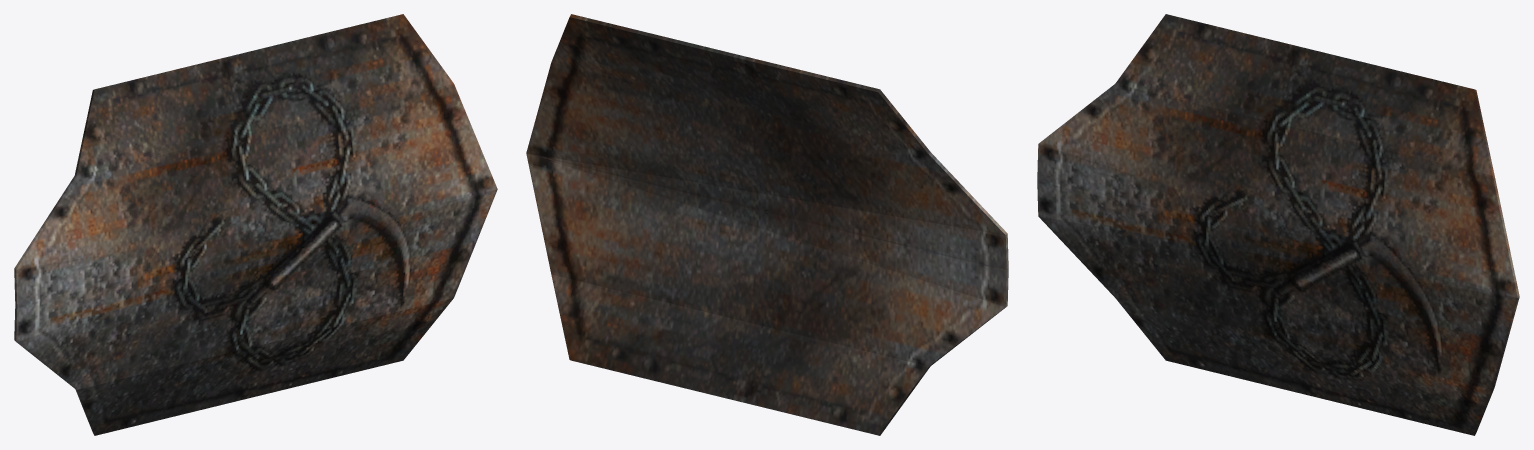
3 renders of one model, left to right at view 1: azimuth 30°, elevation 25°; view 2: azimuth 150°, elevation 25°; view 3: azimuth 330°, elevation 25°, orthographic.
Parts seen in each view (by area): view 1: it10541; view 2: it10541; view 3: it10541.
Part boxes in pixels (<box>): it10541: <box>14,14,497,435</box>; it10541: <box>526,14,1008,435</box>; it10541: <box>1037,14,1519,435</box>.
Bounding box in the file's own units: 4.2 × 2.89 × 0.4136.
Materials: 1 (1 with a texture image).
